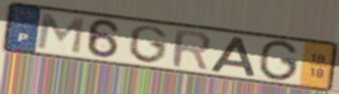6: (85, 18, 123, 61)
A: (208, 36, 257, 78)
G: (256, 39, 302, 83), (127, 24, 169, 66)
M: (34, 12, 87, 56)
R: (171, 28, 214, 73)
